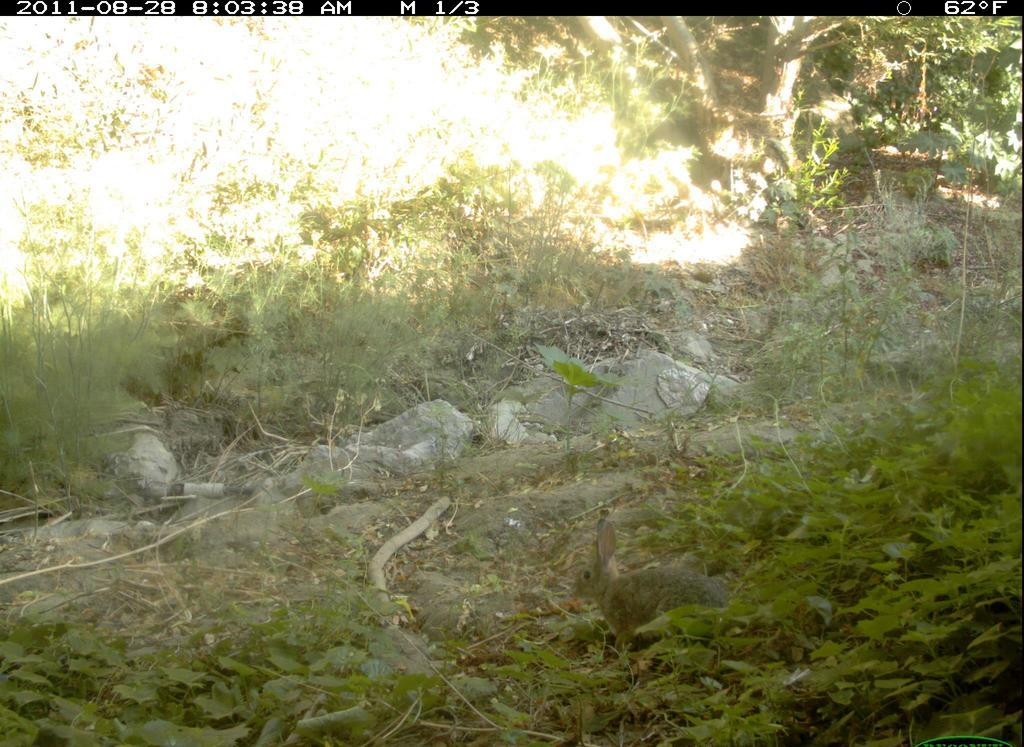rabbit: (566, 518, 734, 664)
